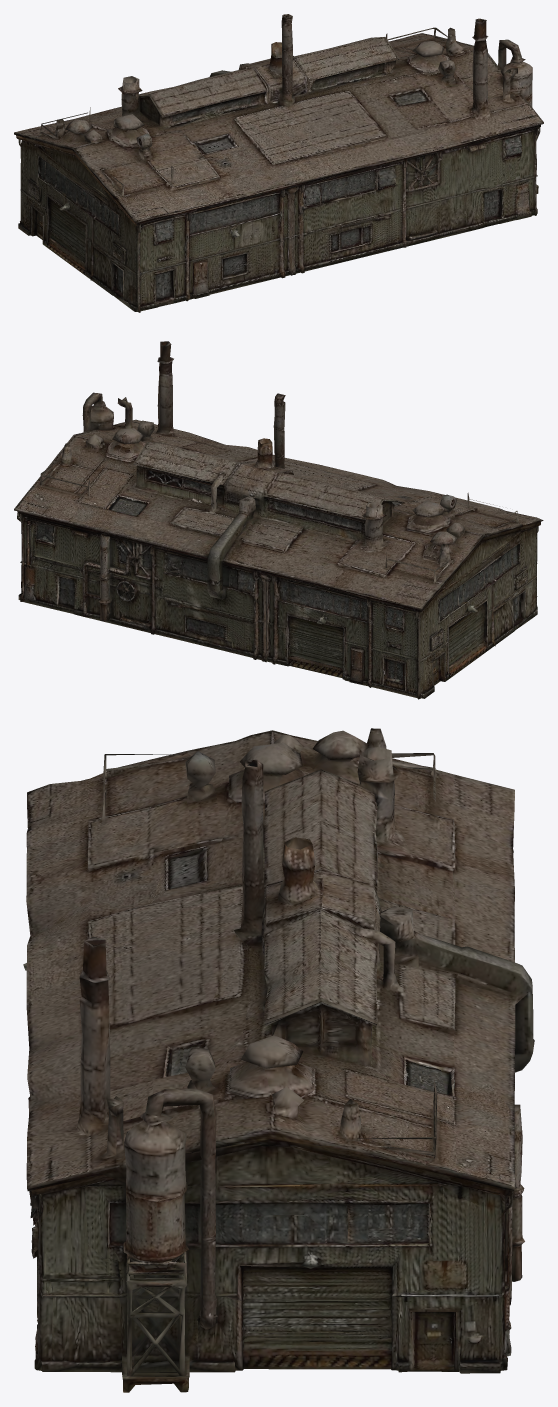
File: tripo_convert_7d6a58c4-cecb-4c68-b1b0-c62fa6073dad.fbx
3 views of the same model, one above another, from view 1: azimuth 30°, elevation 25°; view 2: azimuth 150°, elevation 25°; view 3: azimuth 270°, elevation 25° (orthographic). The views are drawn at different scales.
Visible parts, largest first — view 1: tripo_node_7d6a58c4; view 2: tripo_node_7d6a58c4; view 3: tripo_node_7d6a58c4.
Part boxes in pixels (x1,y1,x2,y2): tripo_node_7d6a58c4: [14, 14, 543, 312]; tripo_node_7d6a58c4: [14, 341, 543, 699]; tripo_node_7d6a58c4: [23, 728, 534, 1392].
Size of the model in its own units: 0.983 by 0.4538 by 0.5027.
Materials: 1 (1 with a texture image).
